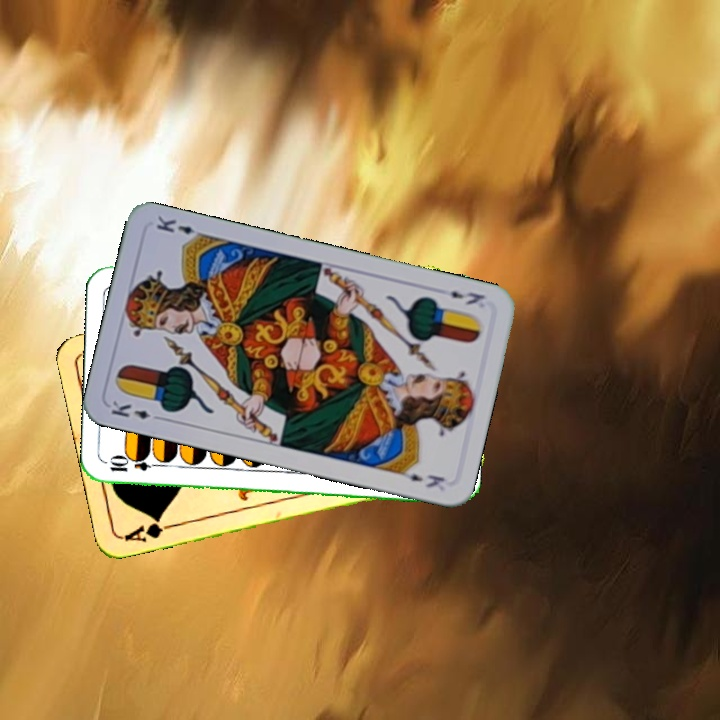E10: (105, 456, 165, 475)
EK: (107, 397, 166, 424), (446, 286, 488, 308)
GA: (120, 513, 178, 545)
